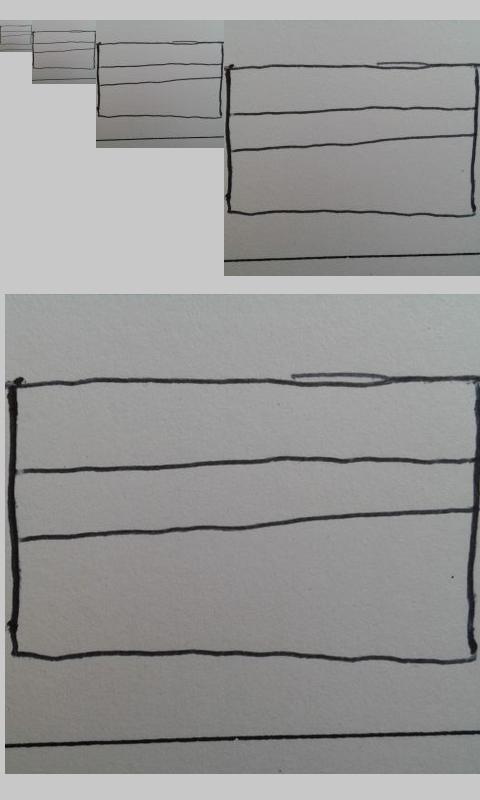list_view: (9, 373, 479, 668), (226, 62, 480, 218), (97, 40, 224, 119), (32, 30, 96, 70), (1, 24, 31, 46)
